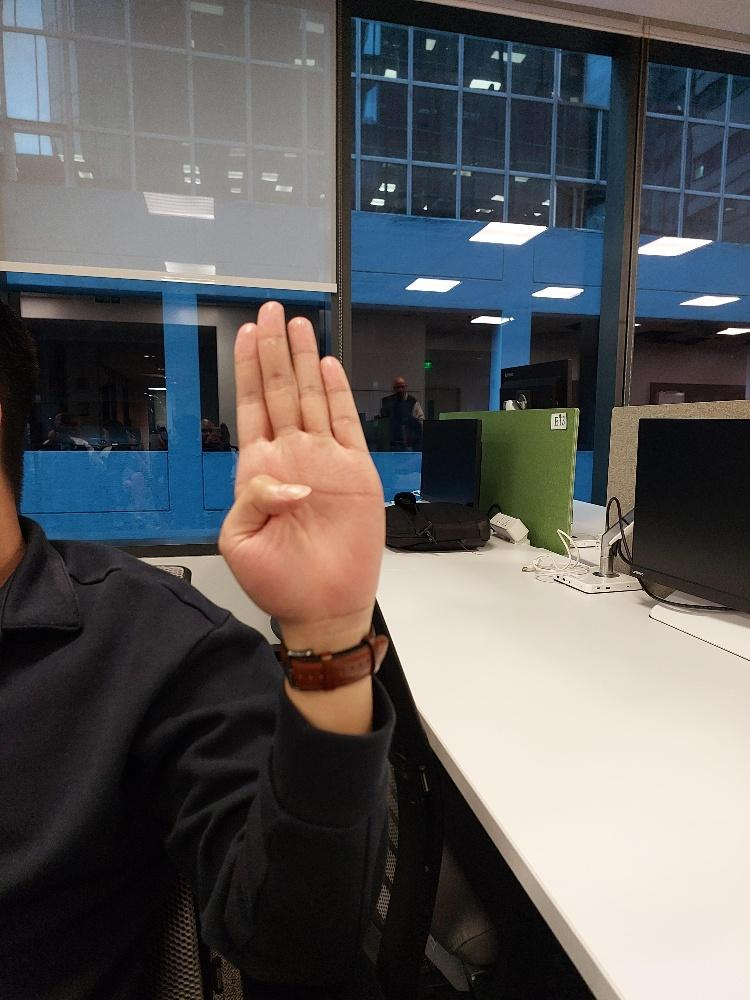b: (218, 297, 385, 614)
